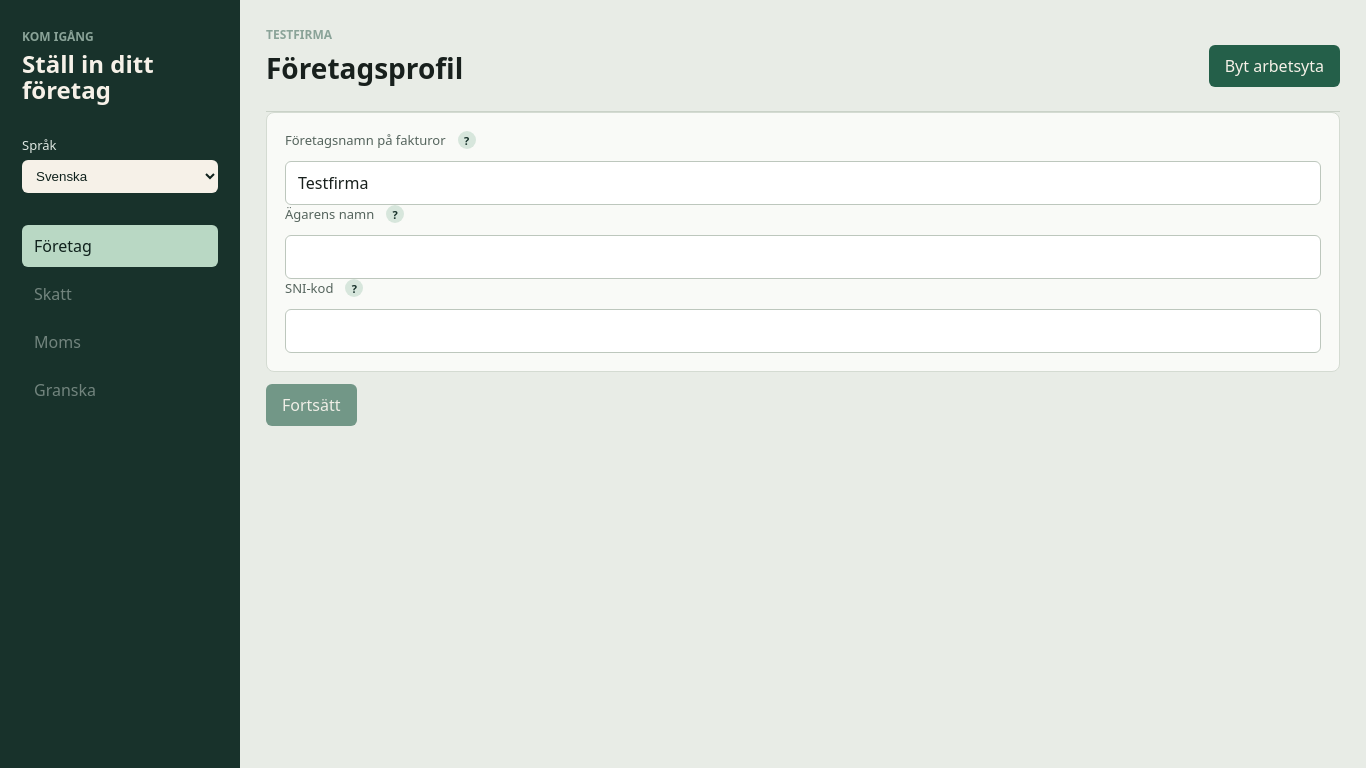
Scenario: OnboardingPage › previews compliance on the review step
Type "Test AB" into the field labelled "Företagsnamn på fakturor" at (803, 183), box x1=285 y1=161 x2=1321 y2=205
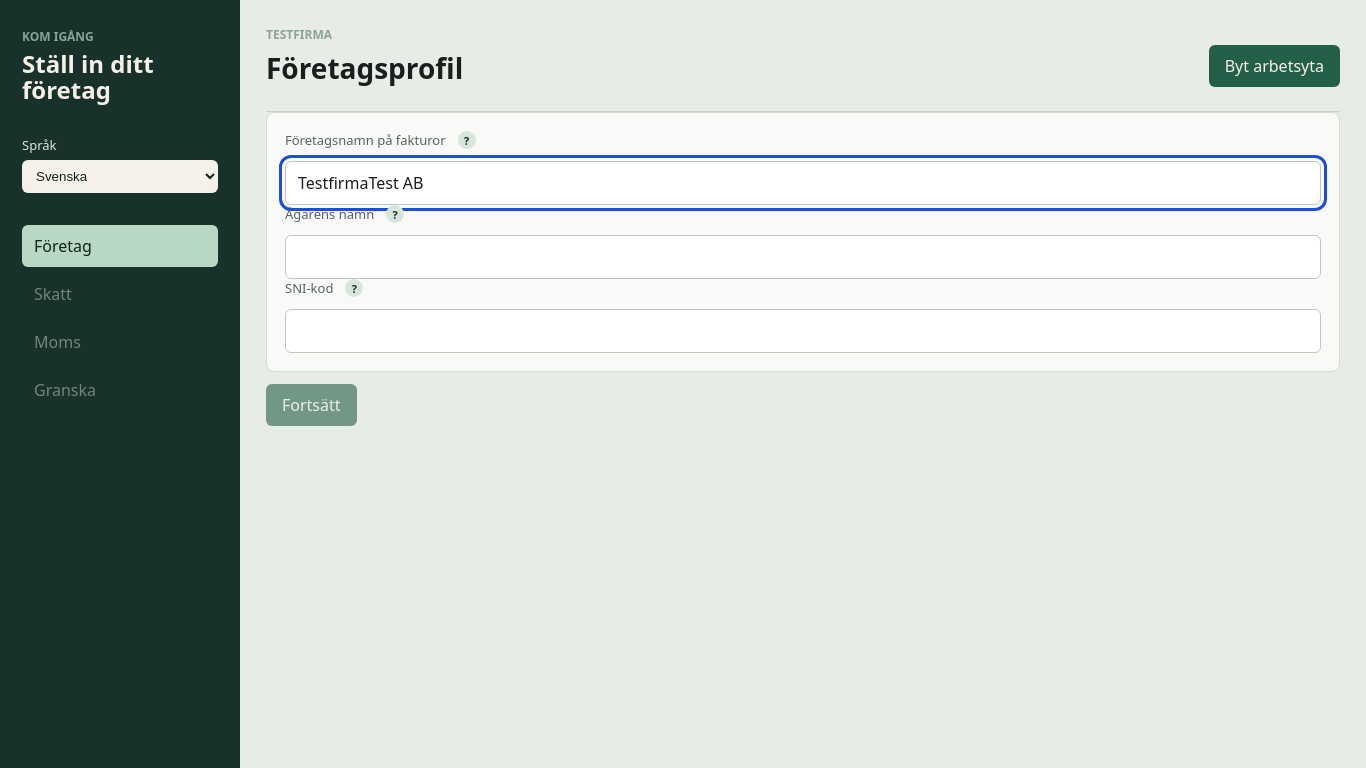
Type "Anna" into the field labelled "Ägarens namn" at (803, 257), box x1=285 y1=235 x2=1321 y2=279
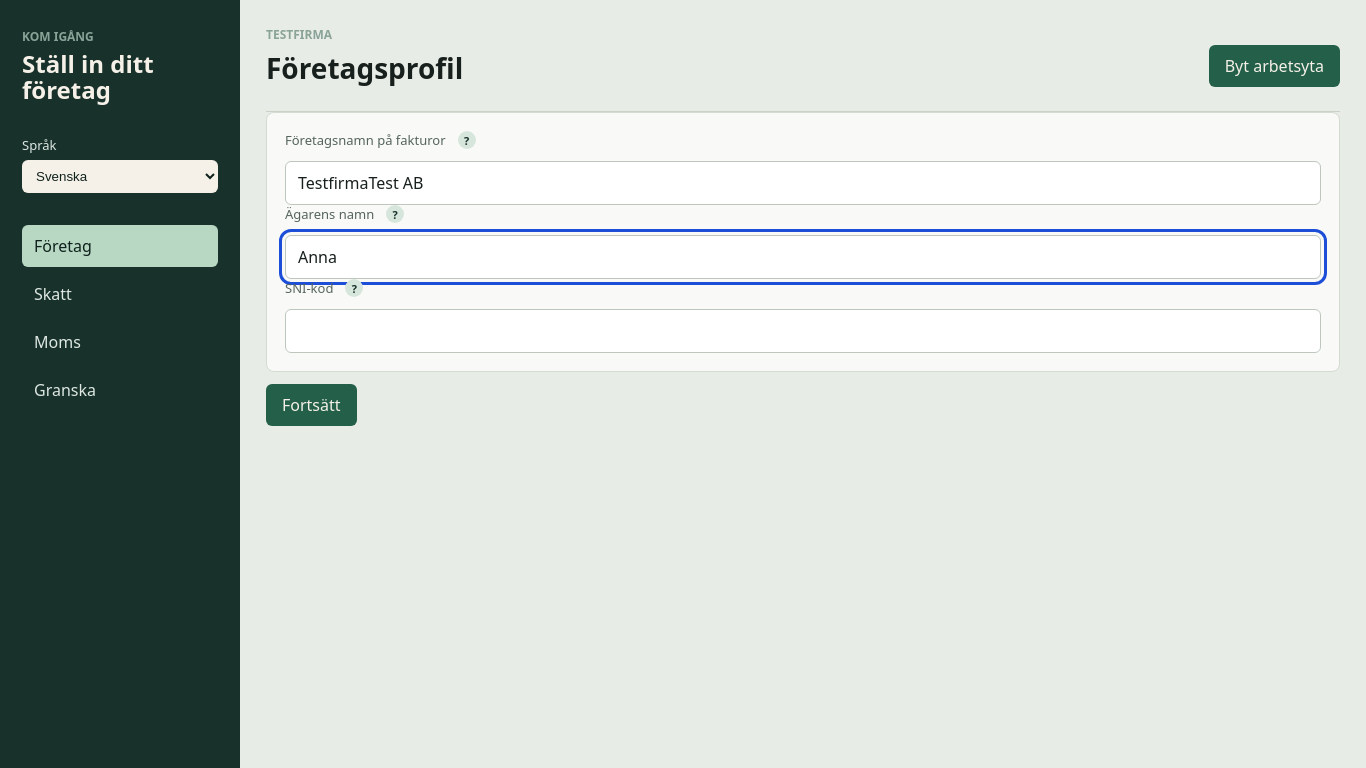
Click the button "Fortsätt" at (311, 405), box x1=266 y1=384 x2=357 y2=426
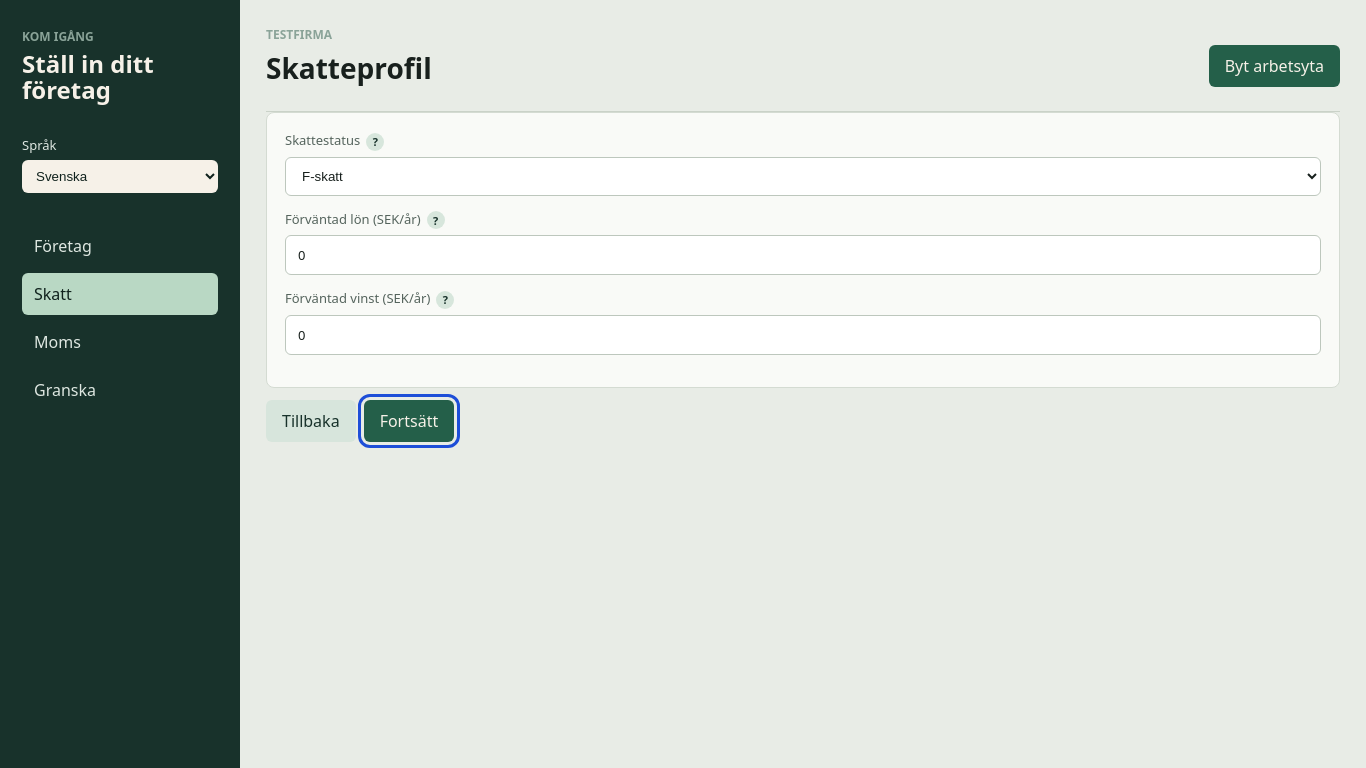
Click the button "Fortsätt" at (409, 420), box x1=364 y1=400 x2=454 y2=442
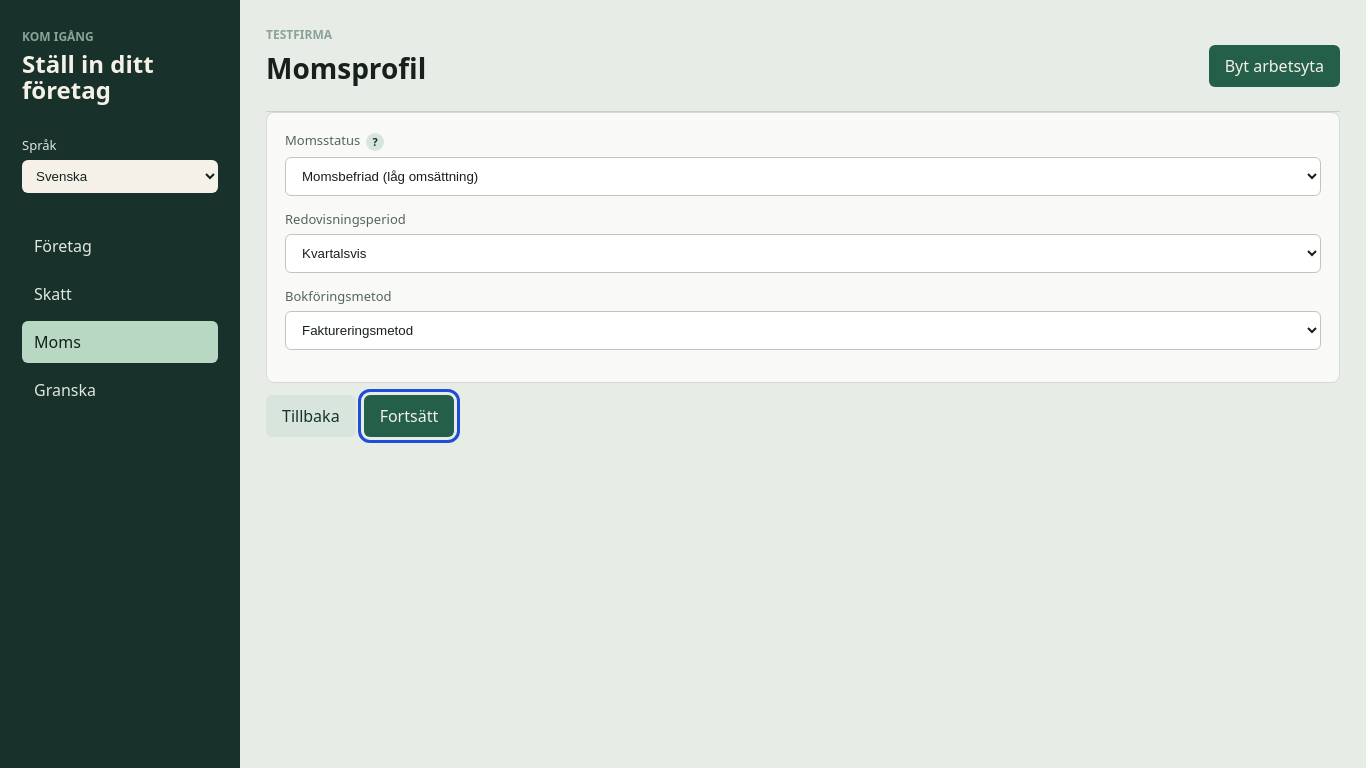
Click the button "Fortsätt" at (409, 416), box x1=364 y1=394 x2=454 y2=436
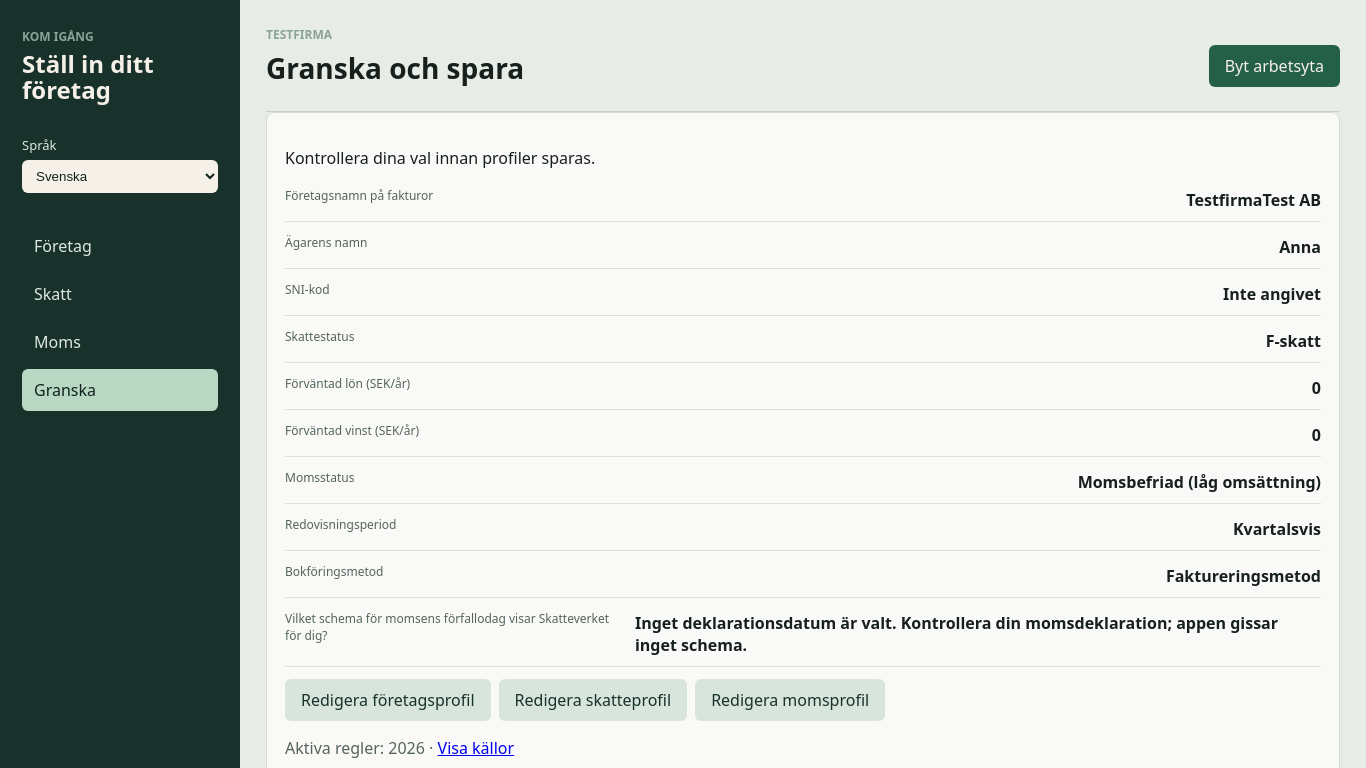
Result: the heading "Granska och spara" is shown at x1=266 y1=49 x2=524 y2=87
